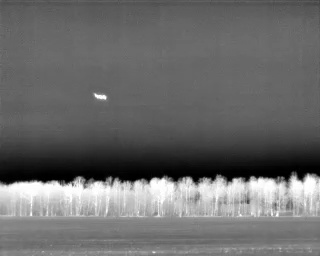DRONE: (90, 88, 111, 105)
